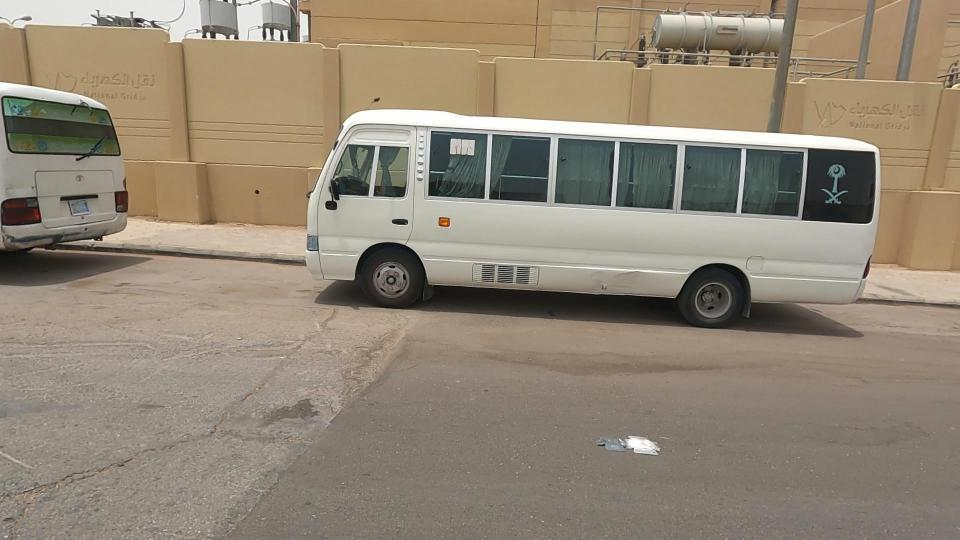GARBAGE: (537, 397, 722, 498)
